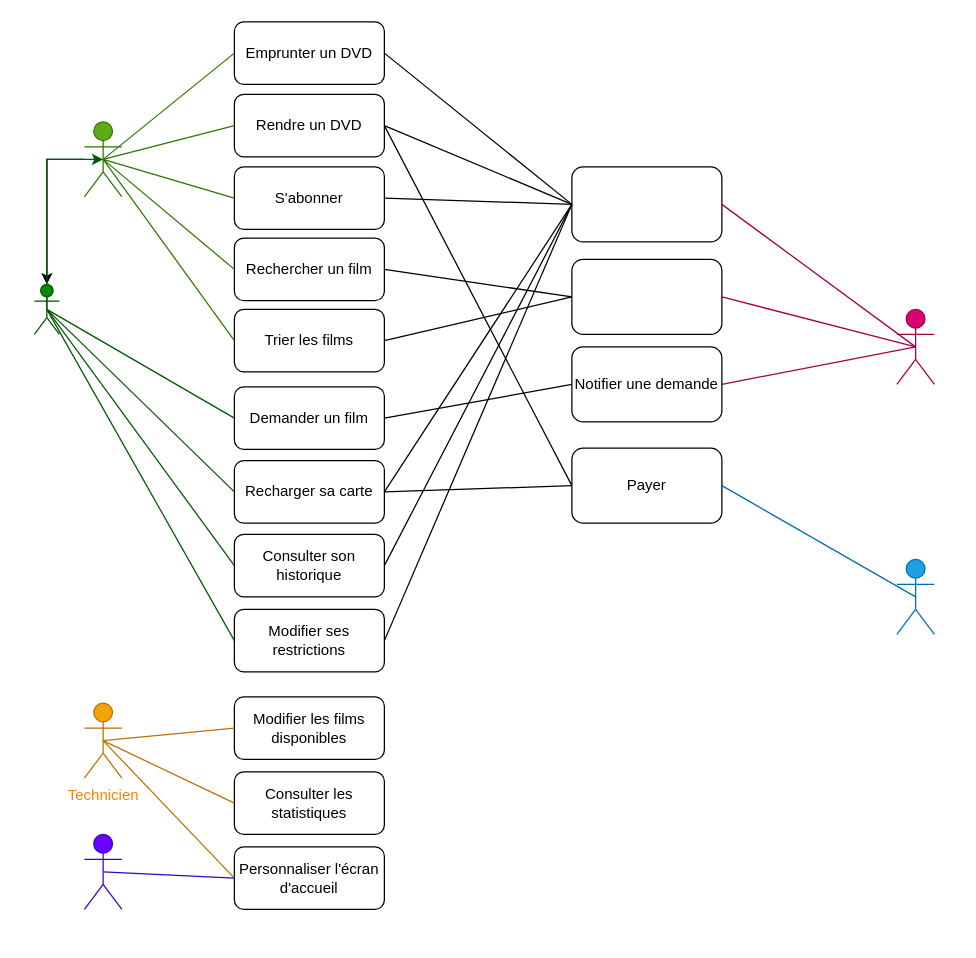
Image size: 976x958. Some labels were removed from this diagram. The box of each missing label's shape, as (x1, y1, x2, y2) in pixels:
Abonné: (33, 283, 59, 334)
Banque: (896, 558, 934, 634)
Client: (83, 121, 122, 197)
Consulter la base de donnée des films: (571, 258, 722, 334)
Consulter ou modifier la base des clients: (571, 166, 722, 242)
CyberVideo: (896, 308, 934, 384)
Gerant: (83, 833, 122, 909)
